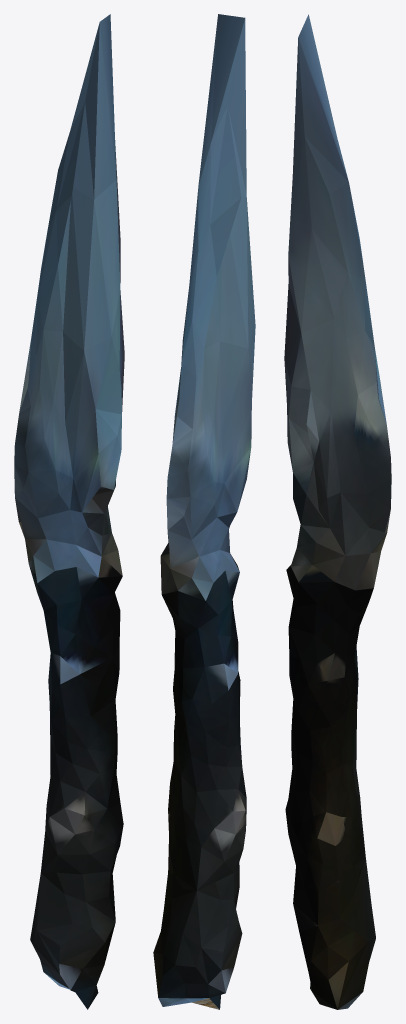
Rendered from knife.fbx.
3 views of the same model, side by side, from view 1: azimuth 90°, elevation 25°; view 2: azimuth 150°, elevation 25°; view 3: azimuth 270°, elevation 25° (orthographic). The views are drawn at different scales.
Parts seen in each view (by area): view 1: poly; view 2: poly; view 3: poly.
Part boxes in pixels (x1=…): poly: x1=14, y1=14, x2=124, y2=1009; poly: x1=153, y1=14, x2=255, y2=1009; poly: x1=284, y1=14, x2=391, y2=1009.
Bounding box in the file's own units: 4.9 × 55.19 × 5.55.
1 material, 1 textured.
